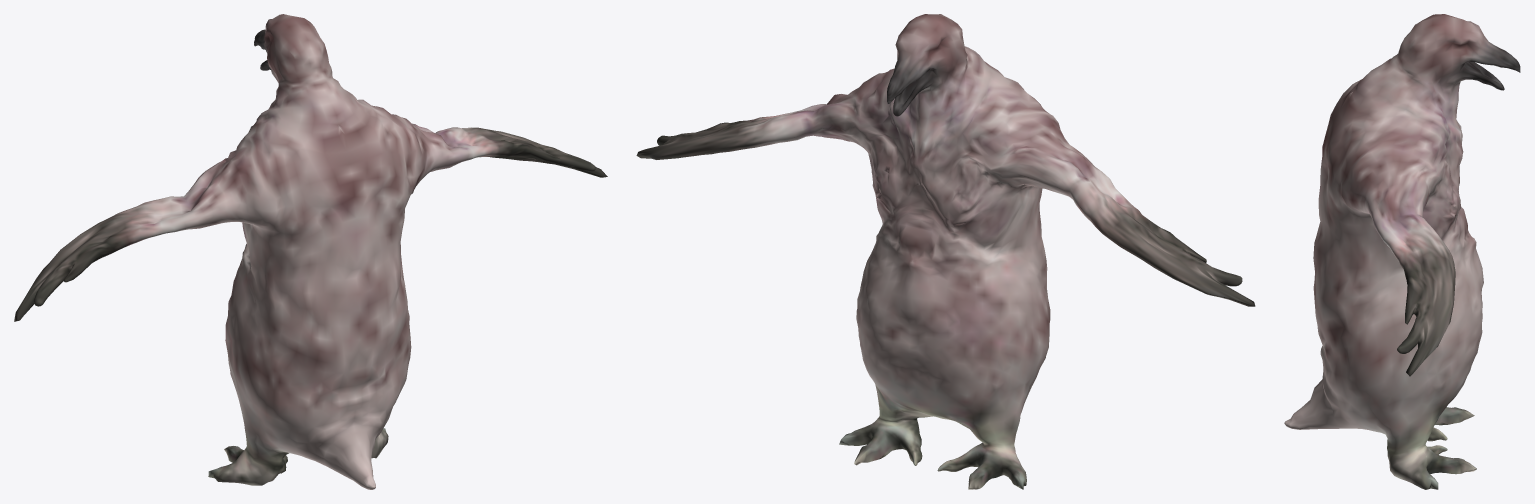
The model's file is pingouin.fbx.
The picture shows the model from 3 angles, left to right: view 1: azimuth 30°, elevation 25°; view 2: azimuth 150°, elevation 25°; view 3: azimuth 270°, elevation 25°; orthographic projection. The views are drawn at different scales.
Parts seen in each view (by area): view 1: PolySphere2; view 2: PolySphere2; view 3: PolySphere2.
Part boxes in pixels (box(x1,y1,x2,y2)): PolySphere2: box(14, 14, 607, 489); PolySphere2: box(636, 14, 1255, 489); PolySphere2: box(1284, 14, 1520, 489).
Bounding box in the file's own units: 13.58 × 9.56 × 4.72.
